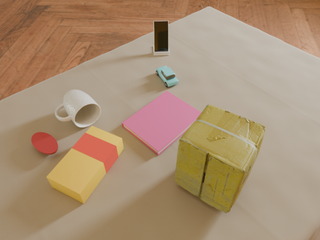book: (122, 91, 202, 155)
box: (175, 105, 265, 213), (47, 126, 124, 203)
cup: (55, 90, 101, 127)
mouse: (31, 132, 58, 155)
phone: (154, 21, 168, 52)
toy_car: (156, 66, 178, 87)
